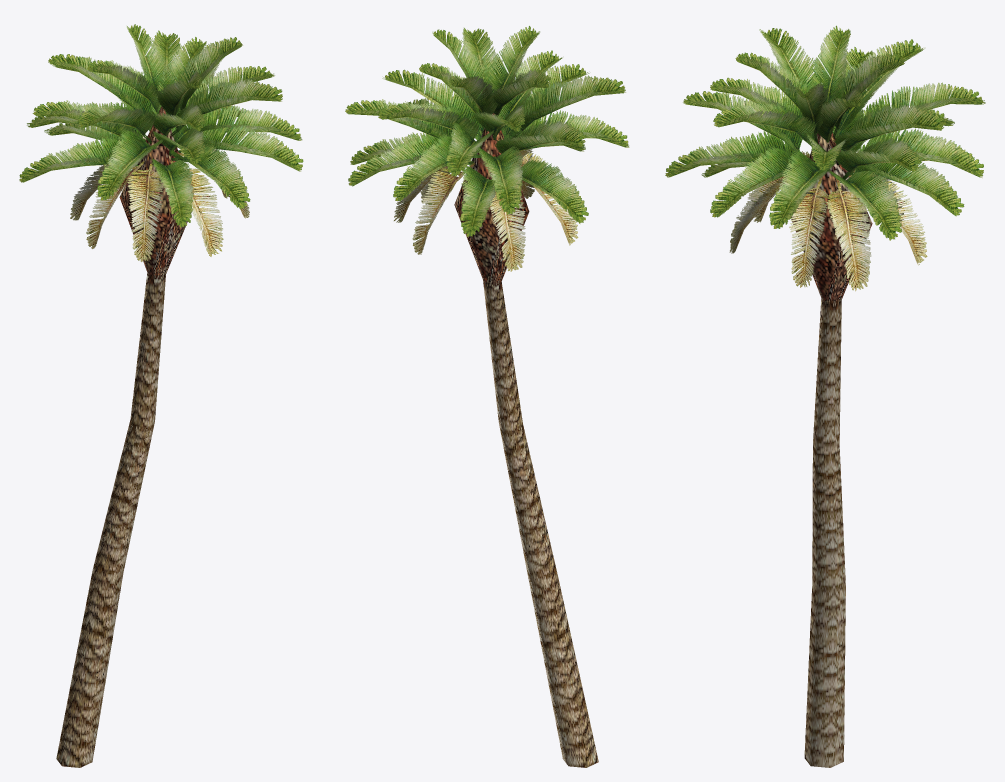
Rendered from tree_cretan_date_palm_06.dae.
The picture shows the model from 3 angles, left to right: view 1: azimuth 30°, elevation 25°; view 2: azimuth 150°, elevation 25°; view 3: azimuth 270°, elevation 25°; orthographic projection. The views are drawn at different scales.
Parts seen in each view (by area): view 1: tree_cretan_date_palm_06; view 2: tree_cretan_date_palm_06; view 3: tree_cretan_date_palm_06.
Boxes of the visible parts, <box> form: tree_cretan_date_palm_06: <box>19,24,303,767</box>; tree_cretan_date_palm_06: <box>345,26,629,767</box>; tree_cretan_date_palm_06: <box>665,25,985,767</box>.
Size of the model in its own units: 9.03 by 23.91 by 9.32.
